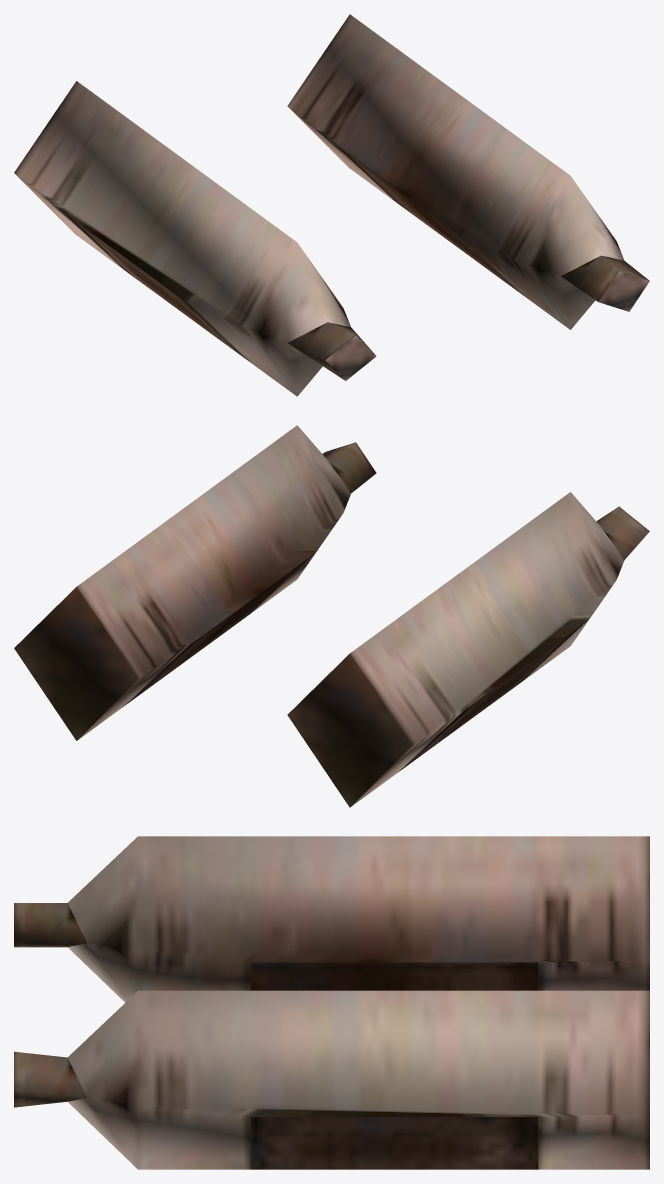
File: merchant_cruiser_medium_turretbody_s01_l3.fbx
3 renders of one model, top to bottom at view 1: azimuth 30°, elevation 25°; view 2: azimuth 150°, elevation 25°; view 3: azimuth 270°, elevation 25°, orthographic. The views are drawn at different scales.
Visible parts, largest first — view 1: mesh_node; view 2: mesh_node; view 3: mesh_node.
Part boxes in pixels (left/top/right/bottom): mesh_node: left=14, top=14, right=649, bottom=396; mesh_node: left=14, top=425, right=649, bottom=807; mesh_node: left=14, top=836, right=649, bottom=1169.
Size of the model in its own units: 5.19 by 1.89 by 6.09.
1 material, 1 textured.
